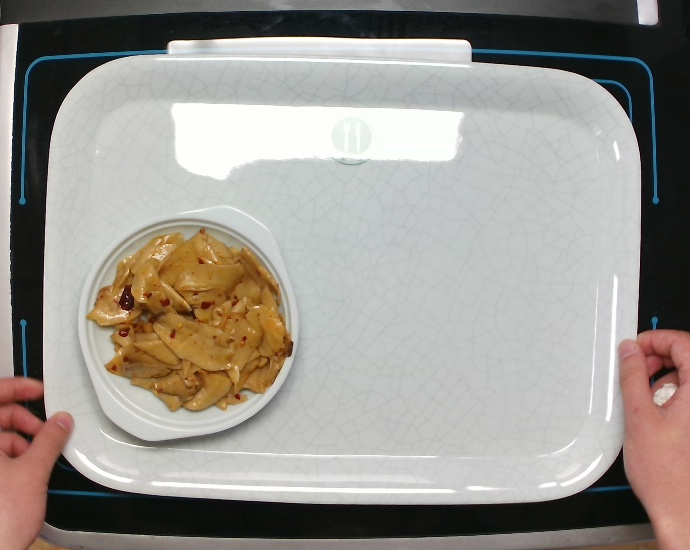JYsf-Shuang_Er_Pan: (76, 201, 301, 444)
